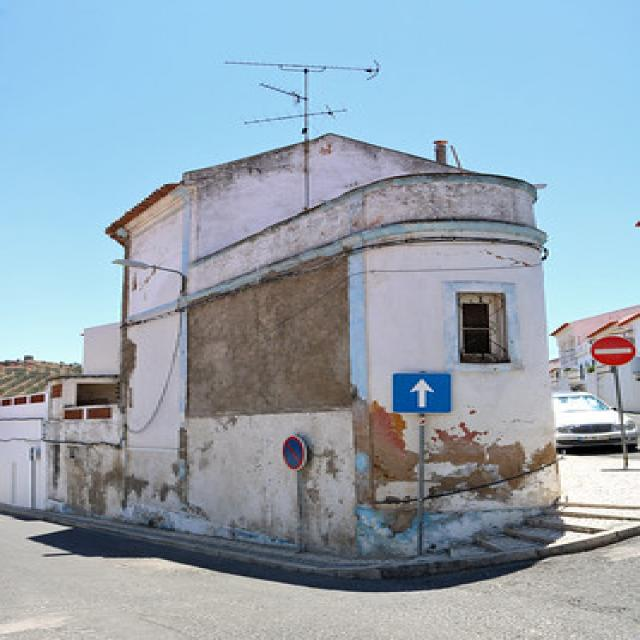Normal_building: (48, 133, 563, 582)
